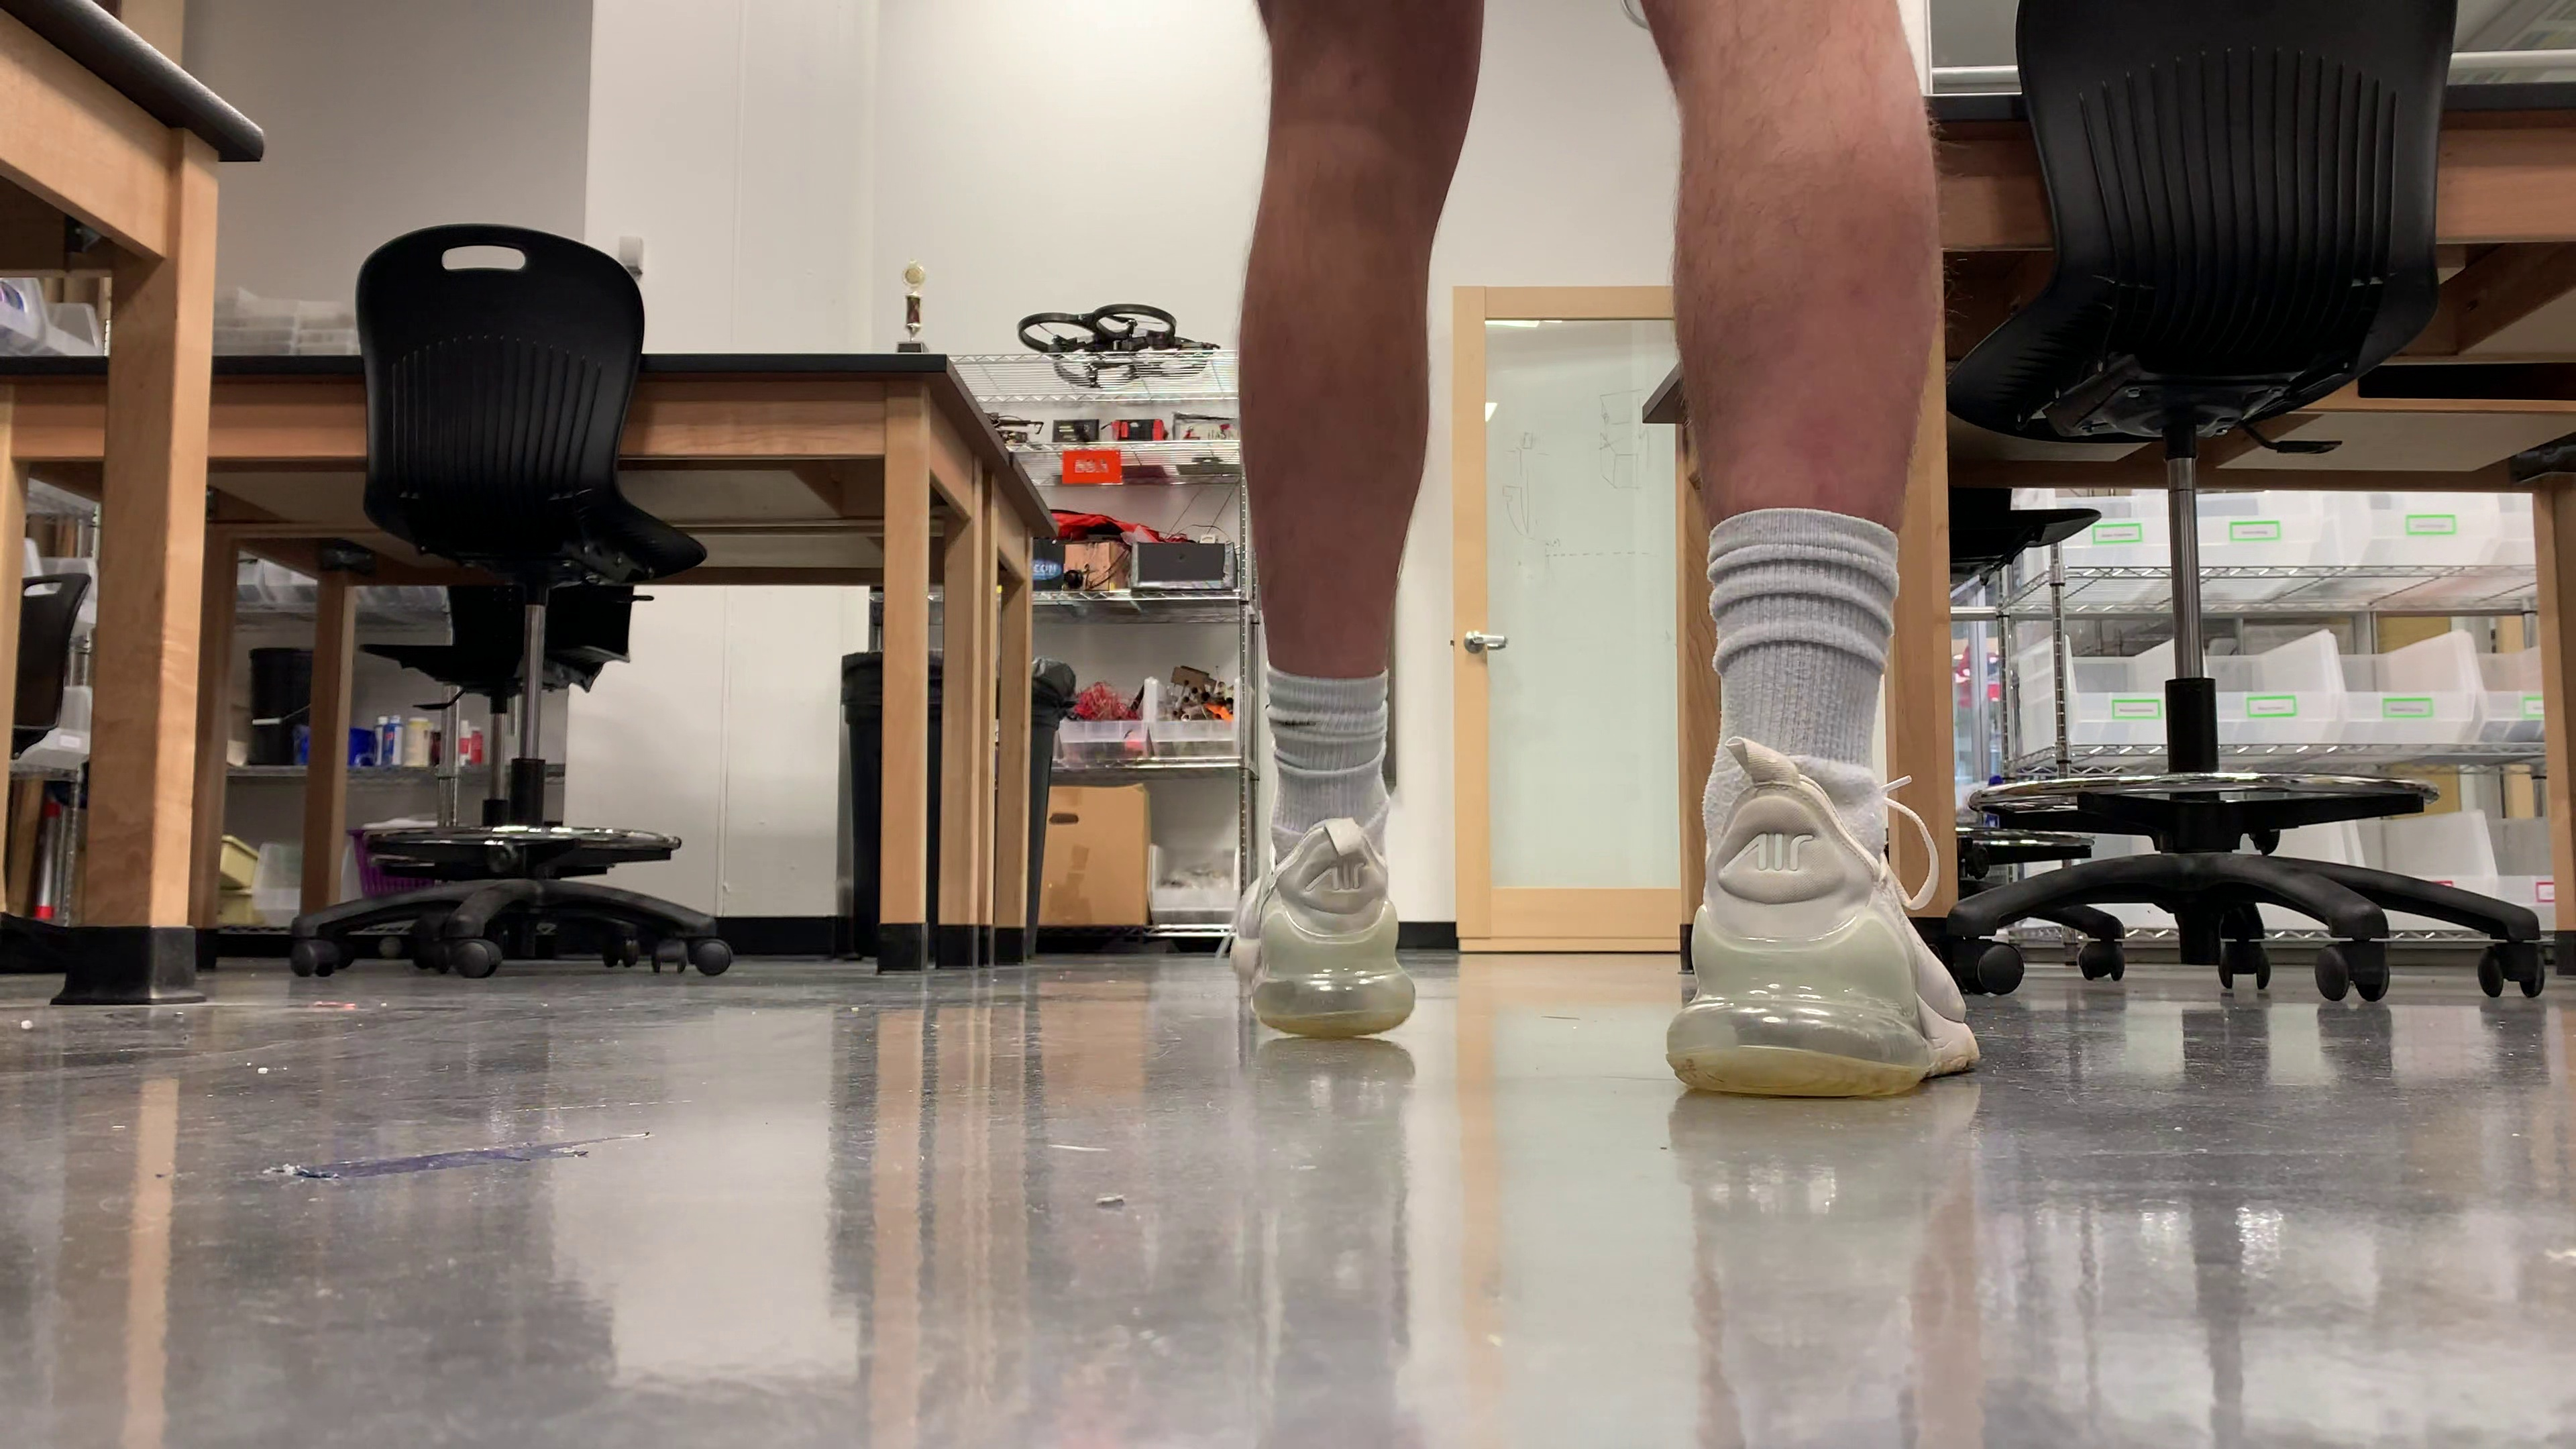shoe: (1668, 771, 1982, 1097), (1233, 819, 1415, 1037)
